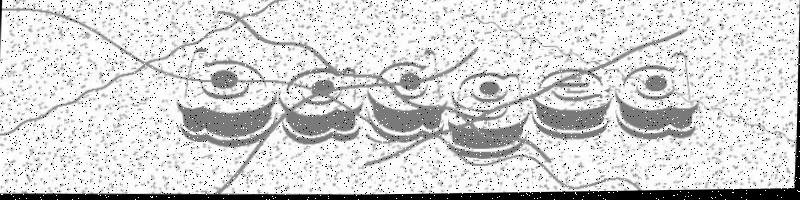a: (274, 63, 366, 149)
b: (174, 46, 279, 147)
d: (612, 50, 709, 150), (364, 46, 454, 145)
e: (530, 61, 615, 146)
g: (447, 67, 533, 163)
